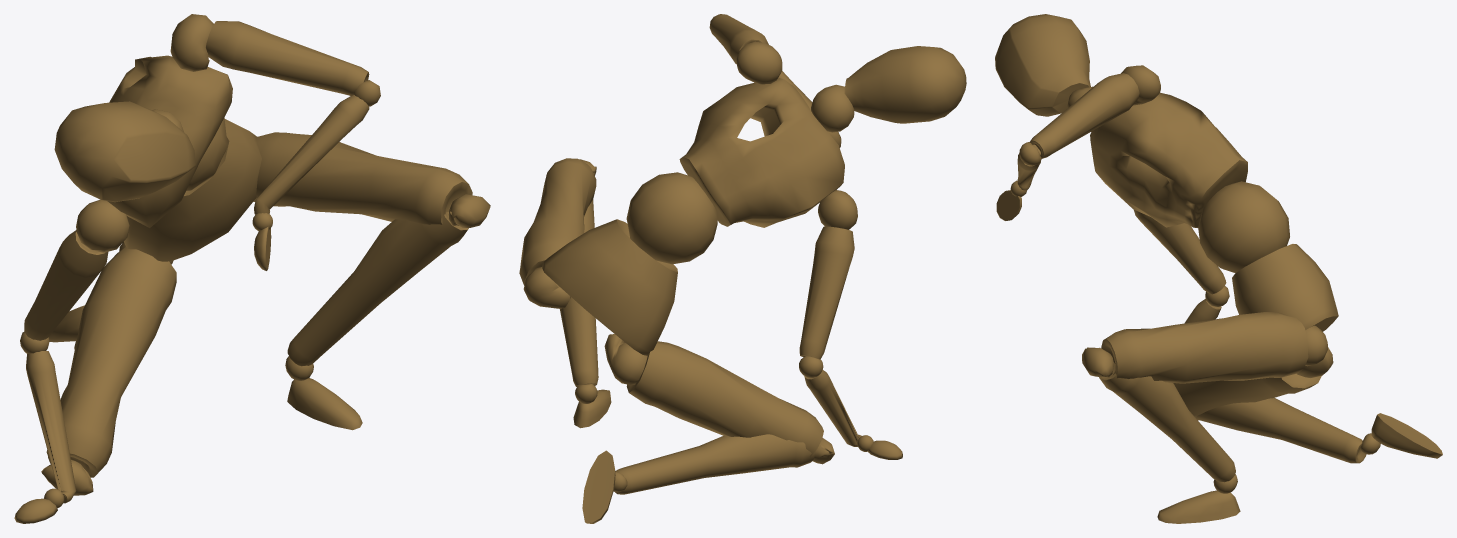
Rendered from maniqui_pose17.fbx.
3 views of the same model, side by side, from view 1: azimuth 30°, elevation 25°; view 2: azimuth 150°, elevation 25°; view 3: azimuth 270°, elevation 25° (orthographic). The views are drawn at different scales.
Parts seen in each view (by area): view 1: dummy_obj.016; view 2: dummy_obj.016; view 3: dummy_obj.016.
Part boxes in pixels (box(x1,y1,x2,y2)): dummy_obj.016: box(14, 14, 490, 523); dummy_obj.016: box(519, 14, 966, 523); dummy_obj.016: box(995, 14, 1442, 523).
Bounding box in the file's own units: 77.98 × 75.83 × 79.31.
